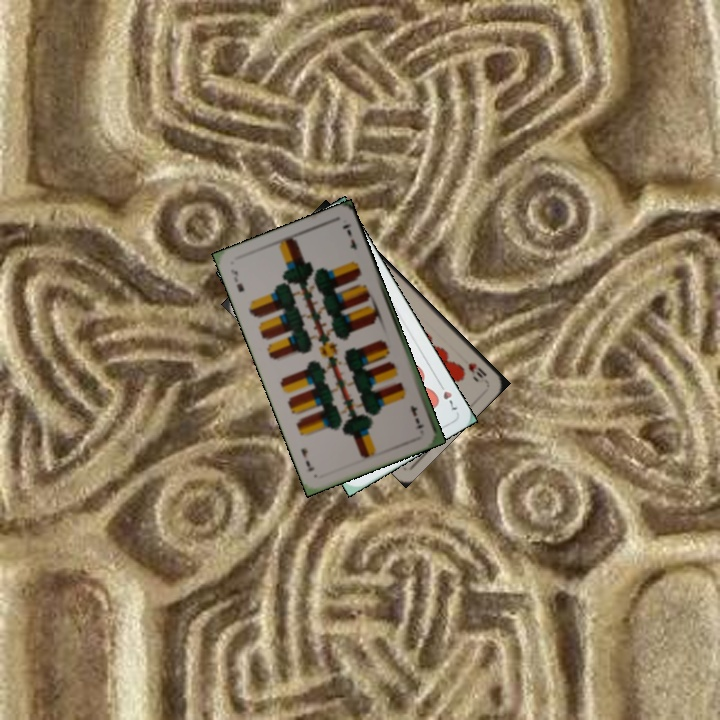E7: (406, 402, 427, 431), (227, 265, 247, 295)
H10: (464, 358, 489, 381)
H7: (434, 377, 460, 413)
